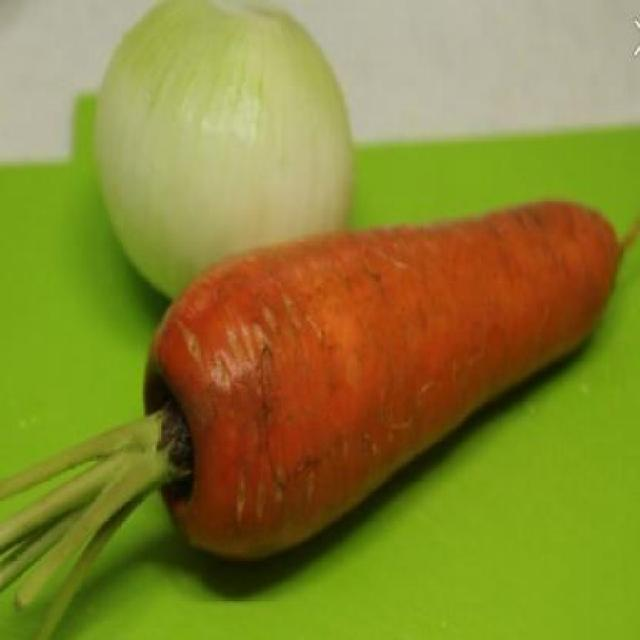carrot: (138, 202, 634, 566)
